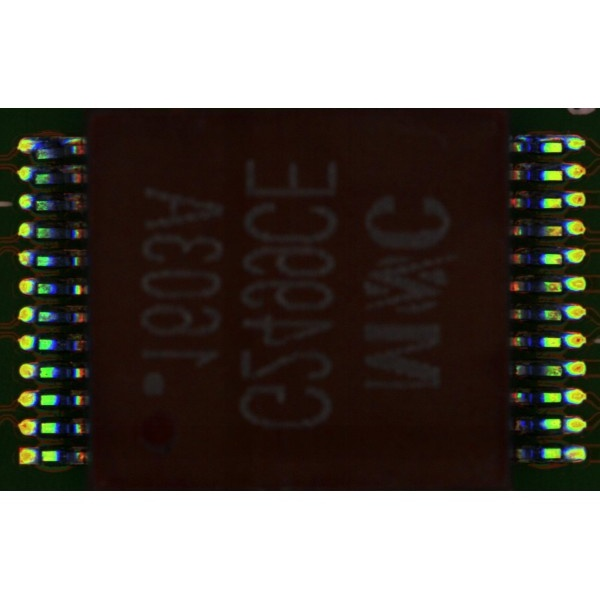Bad_qiaojiao: (523, 136, 562, 142)
